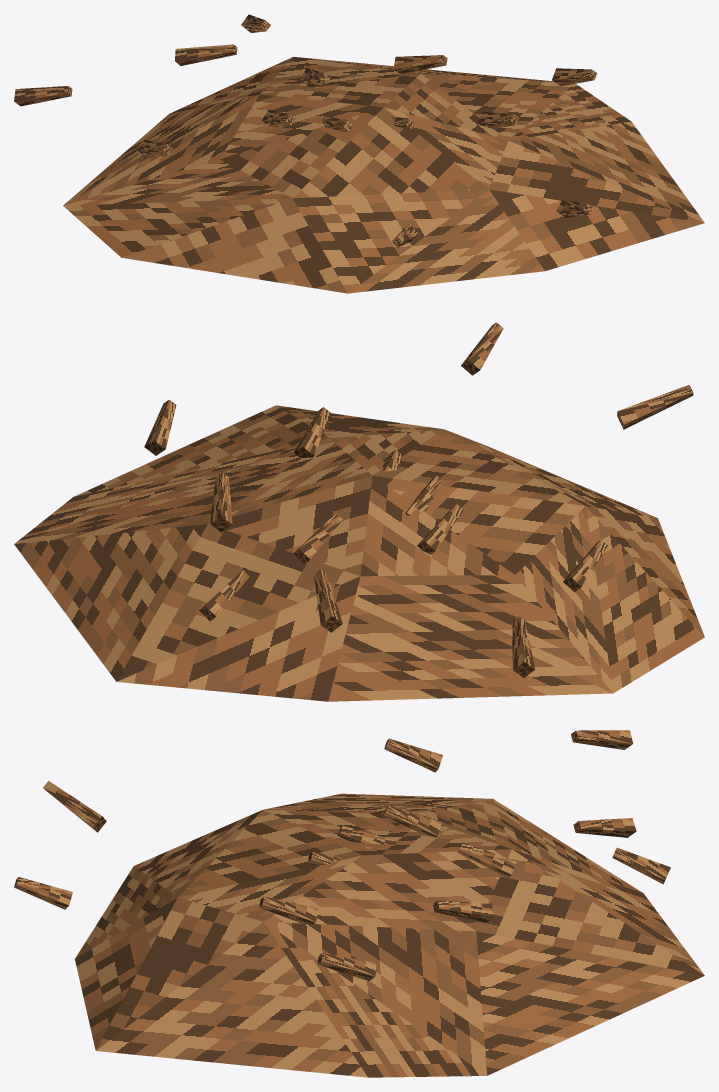
Rendered from tobacco.glb.
3 renders of one model, top to bottom at view 1: azimuth 30°, elevation 25°; view 2: azimuth 150°, elevation 25°; view 3: azimuth 270°, elevation 25°, orthographic. The views are drawn at different scales.
Parts seen in each view (by area): view 1: block_loose tobacco, block_shred 2, block_shred 7, block_shred 11, block_shred 6, block_shred 3, block_shred 10, block_shred 8; view 2: block_loose tobacco, block_shred 9, block_shred 2, block_shred 7, block_shred 11, block_shred 6, block_shred 3, block_shred 10, block_shred 8, block_shred 0, block_shred 4, block_shred 12 (+1 smaller); view 3: block_loose tobacco, block_shred 7, block_shred 2, block_shred 11, block_shred 6, block_shred 9, block_shred 3, block_shred 10, block_shred 8, block_shred 4, block_shred 0, block_shred 12 (+1 smaller).
Part boxes in pixels (x1,y1,x2,y2): block_loose tobacco: (63, 56, 704, 293); block_shred 2: (175, 44, 237, 65); block_shred 7: (14, 86, 72, 106); block_shred 11: (393, 55, 447, 74); block_shred 6: (552, 68, 597, 86); block_shred 3: (477, 111, 519, 128); block_shred 10: (556, 199, 592, 217); block_shred 8: (137, 139, 172, 157); block_loose tobacco: (14, 405, 704, 701); block_shred 9: (617, 384, 693, 429); block_shred 2: (313, 569, 342, 632); block_shred 7: (512, 616, 535, 677); block_shred 11: (210, 472, 232, 532); block_shred 6: (144, 399, 176, 455); block_shred 3: (293, 407, 330, 457); block_shred 10: (461, 322, 503, 375); block_shred 8: (563, 539, 607, 592); block_shred 0: (417, 504, 463, 554); block_shred 4: (293, 513, 342, 564); block_shred 12: (199, 570, 249, 621); block_loose tobacco: (75, 793, 704, 1077); block_shred 7: (571, 730, 633, 749); block_shred 2: (573, 818, 636, 837); block_shred 11: (433, 900, 493, 922); block_shred 6: (318, 953, 376, 980); block_shred 9: (43, 781, 106, 832); block_shred 3: (259, 896, 317, 924); block_shred 10: (14, 877, 72, 909); block_shred 8: (384, 738, 442, 772); block_shred 4: (458, 842, 516, 878); block_shred 0: (383, 805, 442, 837); block_shred 12: (612, 847, 670, 884).
Bounding box in the file's own units: 0.0636 × 0.00957 × 0.0654.
1 material, 1 textured.
